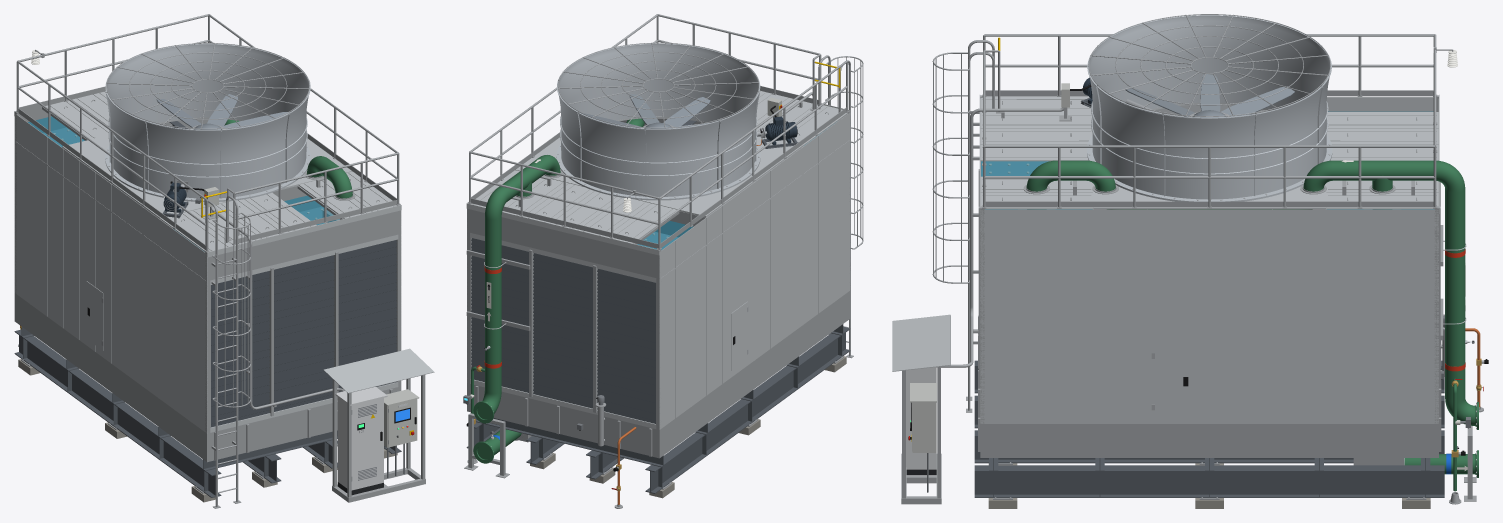
The model's file is cooling-tower-s3e.glb.
The picture shows the model from 3 angles, left to right: view 1: azimuth 30°, elevation 25°; view 2: azimuth 150°, elevation 25°; view 3: azimuth 270°, elevation 25°; orthographic projection. The views are drawn at different scales.
Visible parts, largest first — view 1: CT_Casing, CT_FanCylinder, CT_InletLouvres, CT_Dunnage, CT_ColdWaterBasin, CT_Handrail, CT_BasinCovers, CT_HotWaterBasins, CT_ElectricalStand, CT_Ladder, CT_VFD, CT_FanGuard (+7 smaller); view 2: CT_Casing, CT_FanCylinder, CT_InletLouvres, CT_Dunnage, CT_ColdWaterBasin, CT_Handrail, CT_BasinCovers, CT_HotWaterInlet, CT_HotWaterBasins, CT_FanGuard, CT_FanDeck, CT_Ladder (+6 smaller); view 3: CT_Casing, CT_FanCylinder, CT_Dunnage, CT_ColdWaterBasin, CT_BasinCovers, CT_Handrail, CT_HotWaterInlet, CT_ElectricalStand, CT_FanGuard, CT_Ladder, CT_AccessDoors, CT_Fan (+10 smaller).
Part boxes in pixels (box(x1,y1,x2,y2)): CT_Casing: box(14, 110, 401, 461); CT_FanCylinder: box(105, 43, 310, 201); CT_InletLouvres: box(210, 239, 398, 427); CT_Dunnage: box(14, 327, 401, 502); CT_ColdWaterBasin: box(16, 294, 398, 461); CT_Handrail: box(15, 14, 400, 251); CT_BasinCovers: box(45, 91, 396, 251); CT_HotWaterBasins: box(19, 107, 400, 280); CT_ElectricalStand: box(323, 348, 434, 502); CT_Ladder: box(205, 196, 250, 508); CT_VFD: box(335, 387, 387, 495); CT_FanGuard: box(106, 43, 309, 130); CT_Casing: box(466, 103, 850, 457); CT_FanCylinder: box(556, 43, 760, 200); CT_InletLouvres: box(470, 237, 656, 424); CT_Dunnage: box(466, 324, 850, 498); CT_ColdWaterBasin: box(467, 291, 850, 458); CT_Handrail: box(467, 14, 849, 249); CT_BasinCovers: box(471, 90, 847, 243); CT_HotWaterInlet: box(473, 118, 644, 423); CT_HotWaterBasins: box(468, 116, 844, 278); CT_FanGuard: box(557, 42, 759, 129); CT_FanDeck: box(515, 116, 802, 217); CT_Ladder: box(818, 55, 863, 358); CT_Casing: box(979, 94, 1439, 457); CT_FanCylinder: box(1087, 15, 1332, 201); CT_Dunnage: box(974, 360, 1444, 508); CT_ColdWaterBasin: box(978, 315, 1441, 465); CT_BasinCovers: box(980, 96, 1438, 209); CT_Handrail: box(982, 34, 1437, 208); CT_HotWaterInlet: box(1023, 160, 1478, 429); CT_ElectricalStand: box(892, 314, 950, 504); CT_FanGuard: box(1088, 14, 1330, 116); CT_Ladder: box(932, 40, 994, 412); CT_AccessDoors: box(1151, 347, 1191, 416); CT_Fan: box(1125, 74, 1294, 117).
Size of the model in its own units: 4.3 by 6.83 by 9.52.
